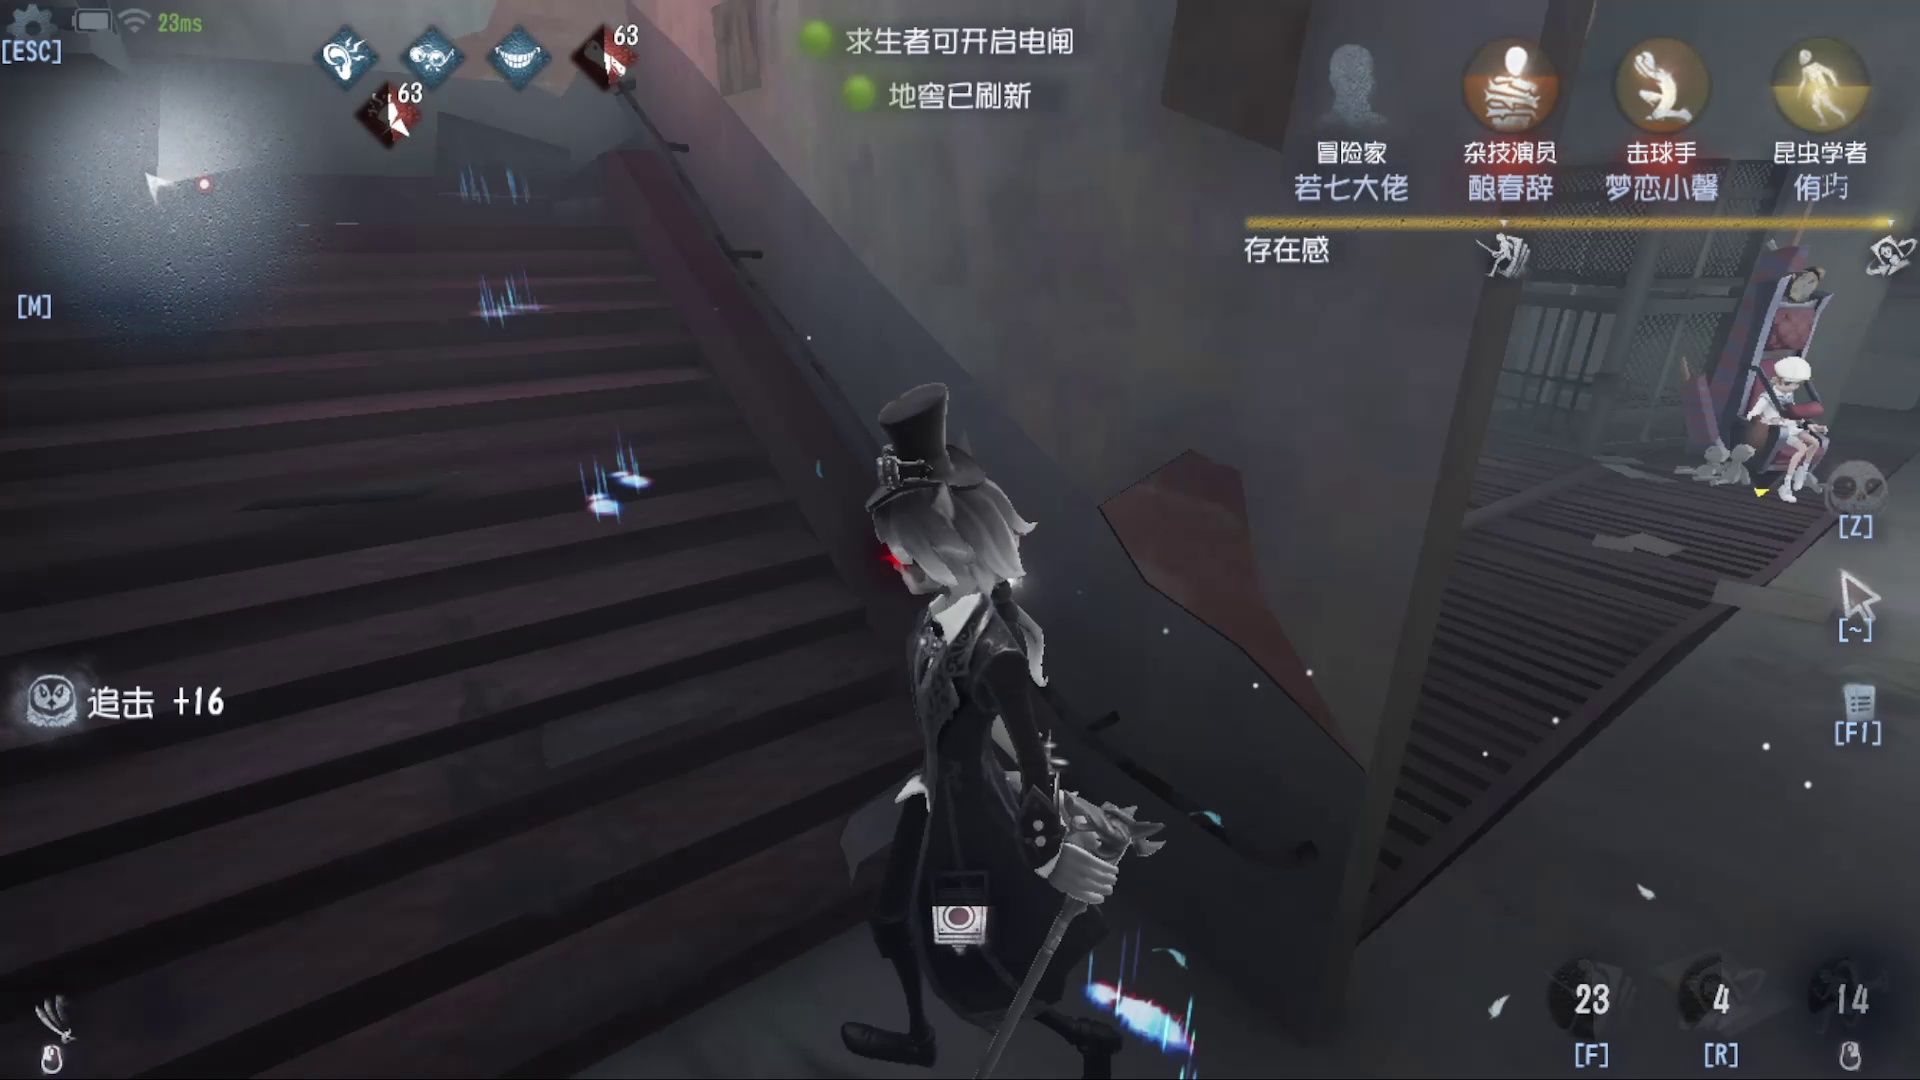求生者: (1756, 349, 1826, 498)
